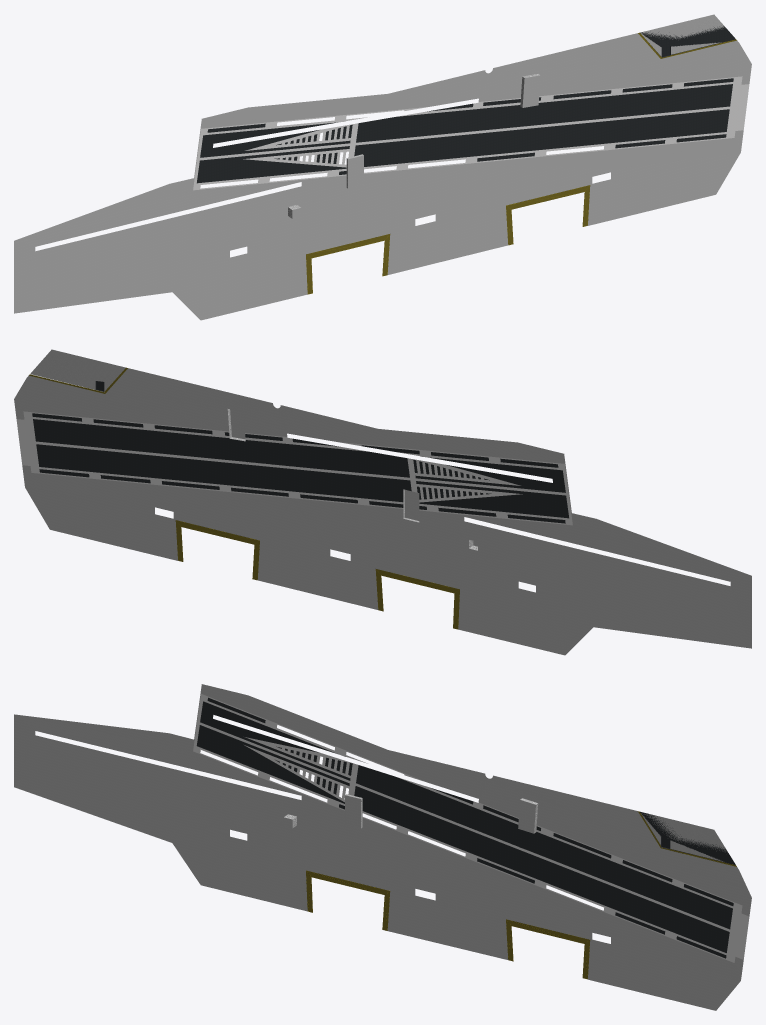
File: cvfFRPont.fbx
3 renders of one model, top to bottom at view 1: azimuth 30°, elevation 25°; view 2: azimuth 150°, elevation 25°; view 3: azimuth 330°, elevation 25°, orthographic.
Visible parts, largest first — view 1: ShapeIndexedFaceSet, ShapeIndexedFaceSet_001, ShapeIndexedFaceSet_002, ShapeIndexedFaceSet_003; view 2: ShapeIndexedFaceSet, ShapeIndexedFaceSet_001, ShapeIndexedFaceSet_002, ShapeIndexedFaceSet_003; view 3: ShapeIndexedFaceSet, ShapeIndexedFaceSet_001, ShapeIndexedFaceSet_002, ShapeIndexedFaceSet_003.
Part boxes in pixels (x1,y1,x2,y2): ShapeIndexedFaceSet: (14, 14, 751, 320); ShapeIndexedFaceSet_001: (197, 26, 735, 183); ShapeIndexedFaceSet_002: (193, 76, 749, 190); ShapeIndexedFaceSet_003: (306, 32, 736, 294); ShapeIndexedFaceSet: (14, 349, 751, 655); ShapeIndexedFaceSet_001: (32, 381, 568, 523); ShapeIndexedFaceSet_002: (16, 411, 572, 525); ShapeIndexedFaceSet_003: (29, 367, 459, 629); ShapeIndexedFaceSet: (14, 684, 751, 1010); ShapeIndexedFaceSet_001: (196, 697, 735, 958); ShapeIndexedFaceSet_002: (193, 694, 749, 962); ShapeIndexedFaceSet_003: (306, 811, 736, 979).
Size of the model in its own units: 280 by 73.17 by 2.81.
